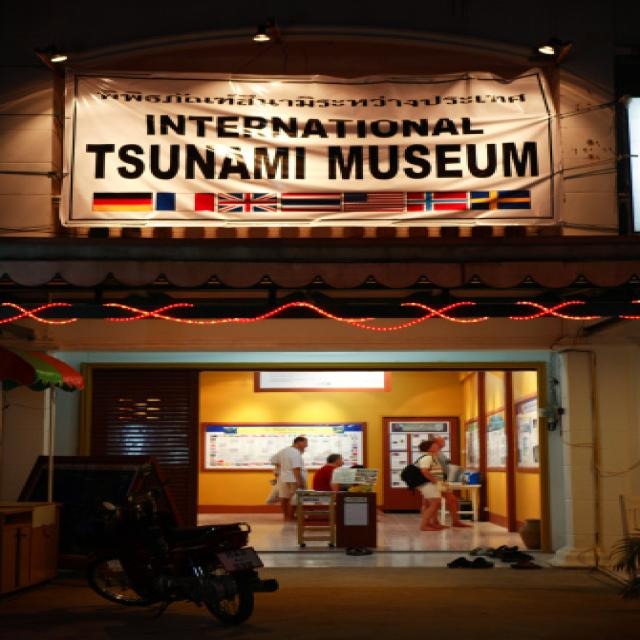Motorbike: (96, 481, 286, 627)
